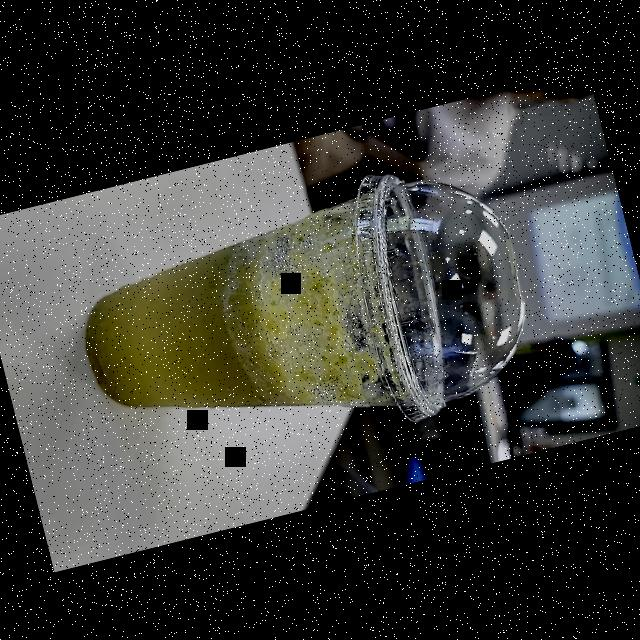plastic_cup: (60, 143, 552, 494)
plastic_cup_lid: (331, 144, 553, 431)
